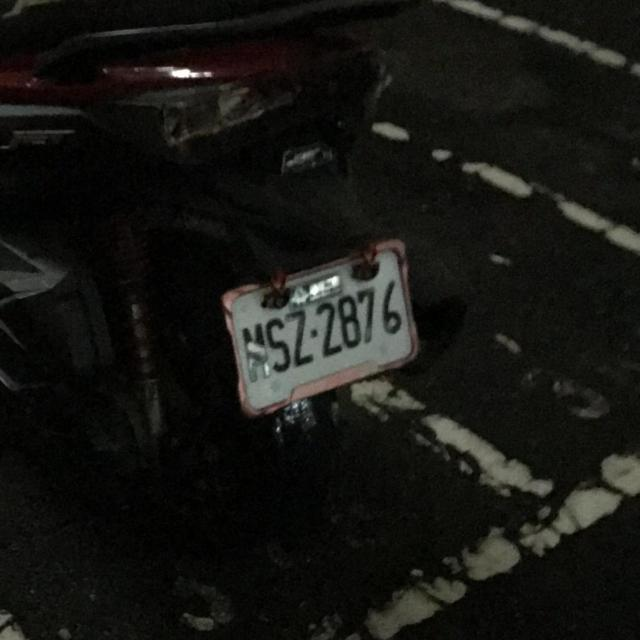W: (211, 236, 428, 424)
